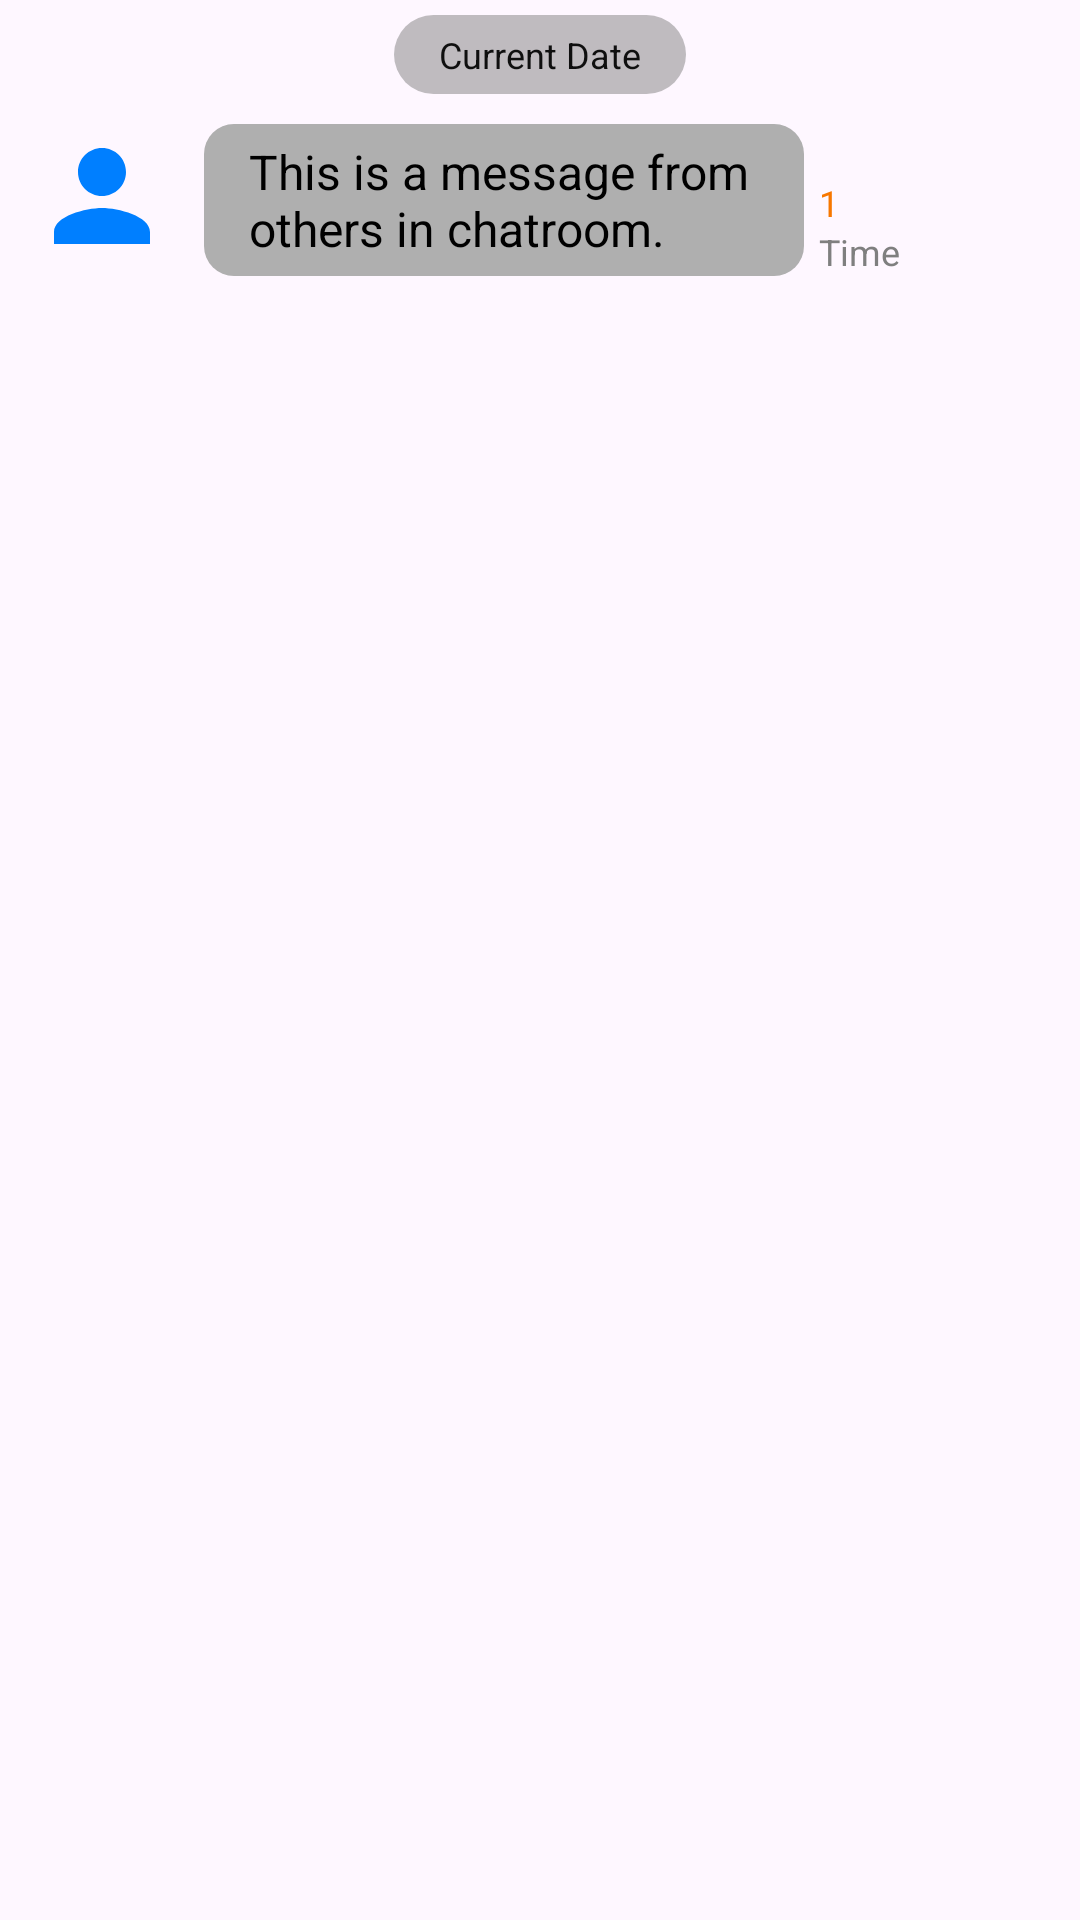

Icons on this 1080 x 1920 Android screen, each with the point to tap as (x=x, y=y):
person: (x=102, y=196)
